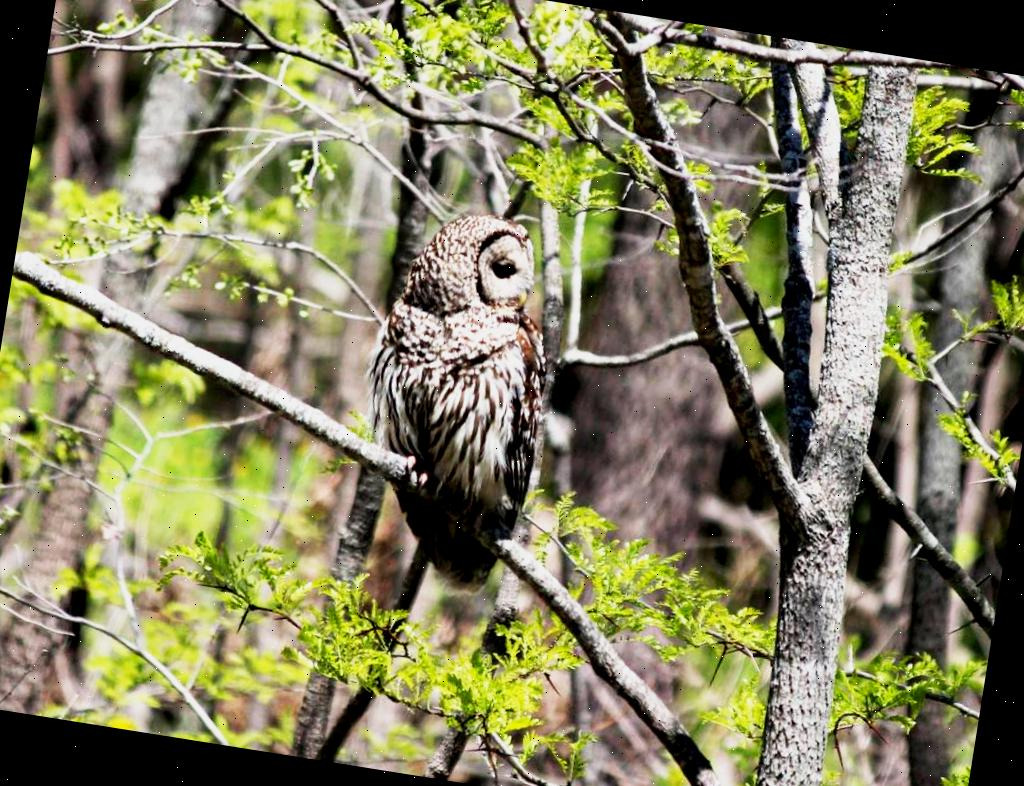Owl: (340, 200, 576, 602)
